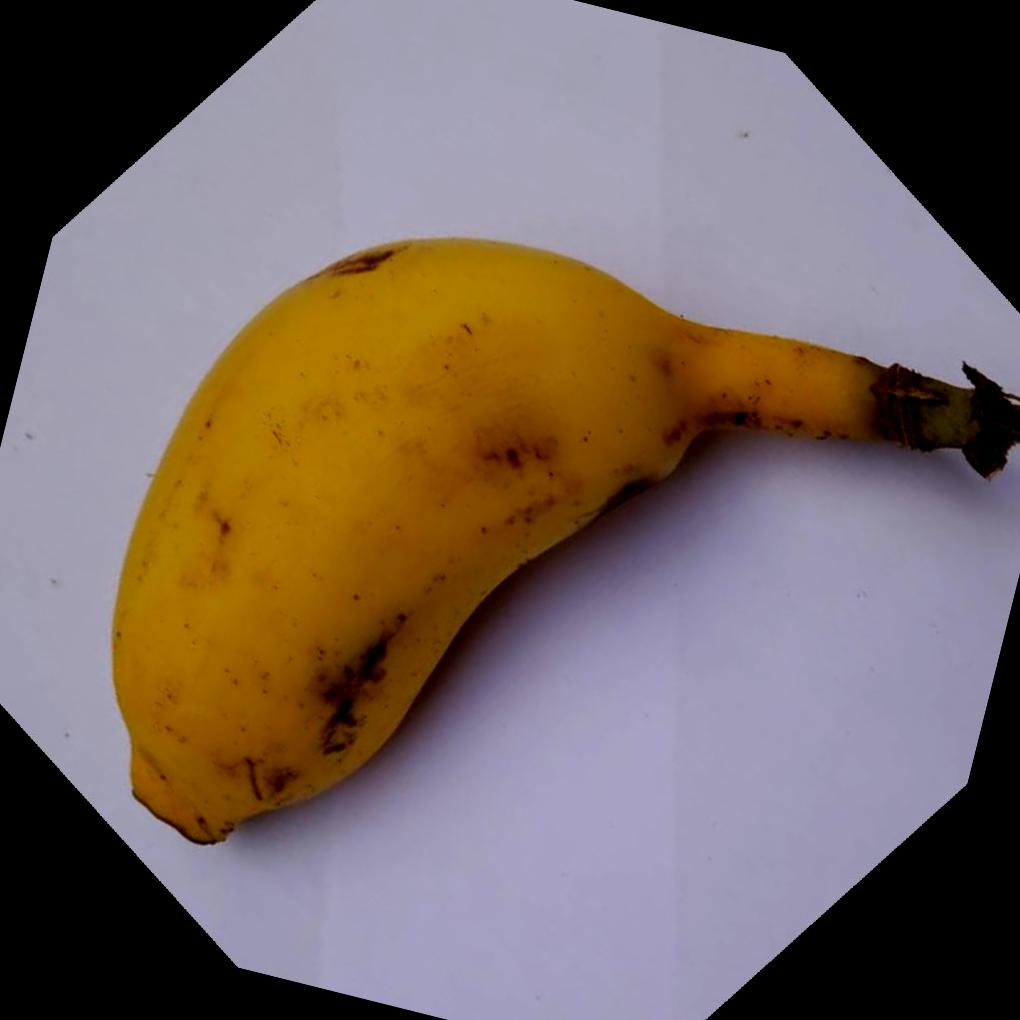Banana Ripe: (45, 140, 1000, 1008)
